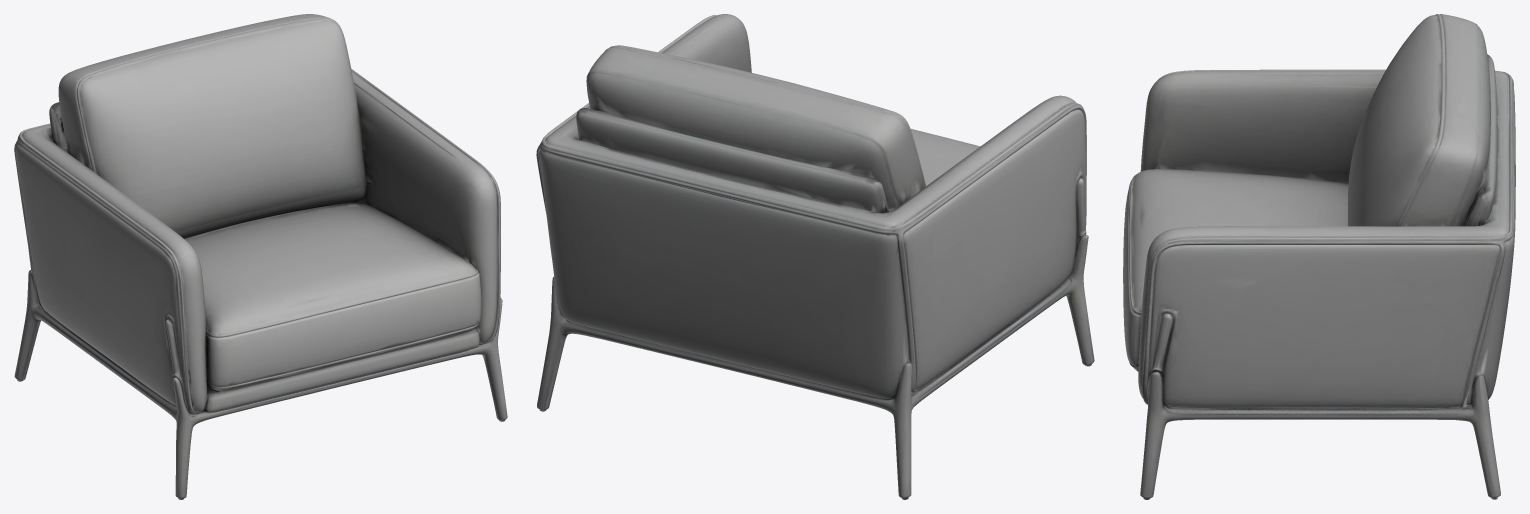
Rendered from armchair.glb.
3 views of the same model, side by side, from view 1: azimuth 30°, elevation 25°; view 2: azimuth 150°, elevation 25°; view 3: azimuth 270°, elevation 25° (orthographic). The views are drawn at different scales.
Visible parts, largest first — view 1: node_0; view 2: node_0; view 3: node_0.
Part boxes in pixels (box(x1,y1,x2,y2)): node_0: box(14, 14, 507, 499); node_0: box(536, 14, 1094, 499); node_0: box(1123, 14, 1515, 499).
Size of the model in its own units: 0.7554 by 0.6876 by 0.7192.
1 material, 1 textured.
